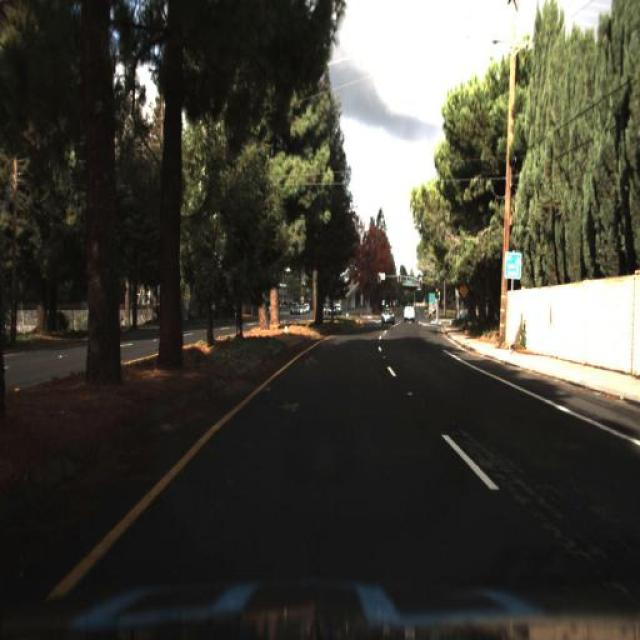car: (400, 294, 418, 318)
trafficLight-RedLeft: (433, 280, 442, 296)
